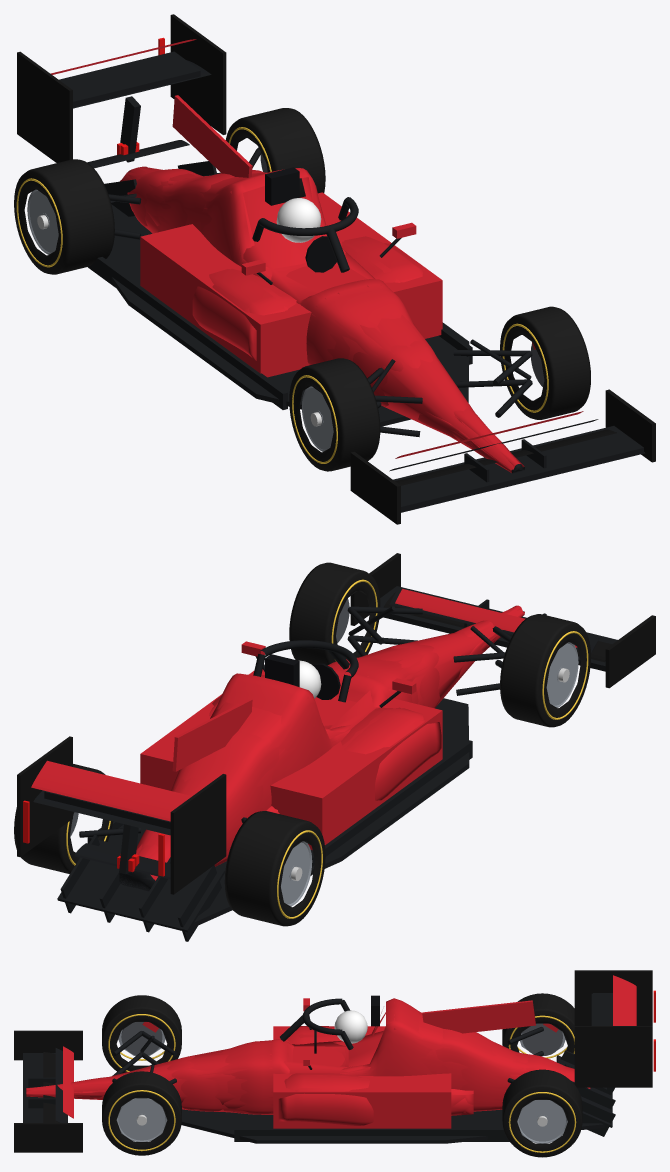
The picture shows the model from 3 angles, top to bottom: view 1: azimuth 30°, elevation 25°; view 2: azimuth 150°, elevation 25°; view 3: azimuth 270°, elevation 25°; orthographic projection. The views are drawn at different scales.
Visible parts, largest first — view 1: carbon (×3), body (×3), rubber (×7), paint (×3), accent, rim (×2), black (×2), helmet; view 2: carbon (×3), paint (×3), body (×3), rubber (×7), accent, rim (×2), black (×2), helmet, taillight; view 3: body (×3), paint (×3), carbon (×3), rubber (×8), accent, rim (×2), disc (×4), tyreStripe (×3), helmet.
Boxes of the visible parts, x1,y1,x2,y2 form: carbon (×3): [59, 51, 644, 512]; body (×3): [120, 166, 524, 473]; rubber (×7): [14, 108, 590, 471]; paint (×3): [51, 39, 583, 458]; accent: [17, 14, 655, 524]; rim (×2): [27, 189, 333, 451]; black (×2): [265, 167, 336, 272]; helmet: [276, 198, 321, 242]; carbon (×3): [33, 586, 617, 941]; paint (×3): [31, 589, 577, 850]; body (×3): [119, 605, 524, 891]; rubber (×7): [14, 562, 590, 926]; accent: [17, 553, 655, 894]; rim (×2): [281, 642, 578, 906]; black (×2): [265, 654, 340, 699]; helmet: [299, 660, 321, 698]; taillight: [23, 800, 164, 876]; body (×3): [26, 998, 590, 1114]; paint (×3): [63, 975, 636, 1128]; carbon (×3): [23, 993, 615, 1143]; rubber (×8): [102, 993, 582, 1157]; accent: [14, 970, 652, 1152]; rim (×2): [116, 1098, 567, 1143]; disc (×4): [121, 1022, 562, 1056]; tyreStripe (×3): [108, 1014, 576, 1152]; helmet: [334, 1010, 367, 1043].
Bounding box in the file's own units: 2.01 × 1.16 × 5.77.
